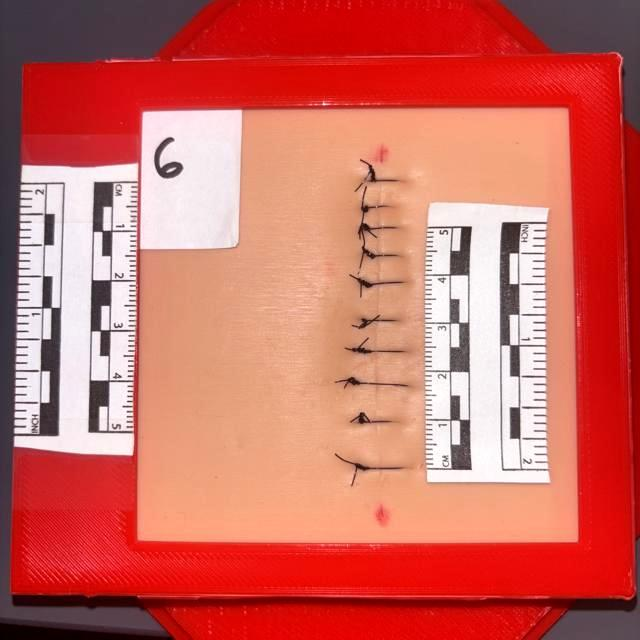incision_line: (376, 155, 386, 520)
scale_marker: (424, 274, 458, 323)
suture_d: (372, 382, 391, 421), (372, 422, 386, 468), (373, 281, 389, 320), (374, 225, 391, 253), (373, 352, 388, 381), (373, 254, 387, 284), (375, 320, 387, 351), (373, 178, 386, 206), (372, 208, 384, 226)
suture_l: (355, 382, 381, 388), (366, 203, 381, 210), (365, 225, 381, 231), (362, 419, 381, 424), (363, 318, 382, 323), (364, 349, 382, 354), (371, 251, 382, 259), (365, 466, 381, 471), (369, 177, 382, 183), (368, 280, 380, 286)
suture_r: (382, 382, 412, 388), (382, 251, 403, 259), (381, 466, 413, 471), (380, 281, 410, 286), (382, 349, 409, 354), (382, 177, 404, 183), (381, 225, 403, 231), (381, 419, 407, 424), (382, 318, 403, 323), (381, 203, 395, 210)
